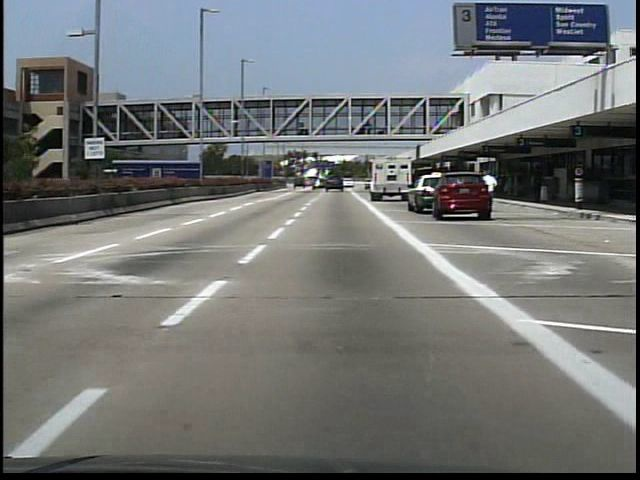person: (479, 170, 499, 219)
